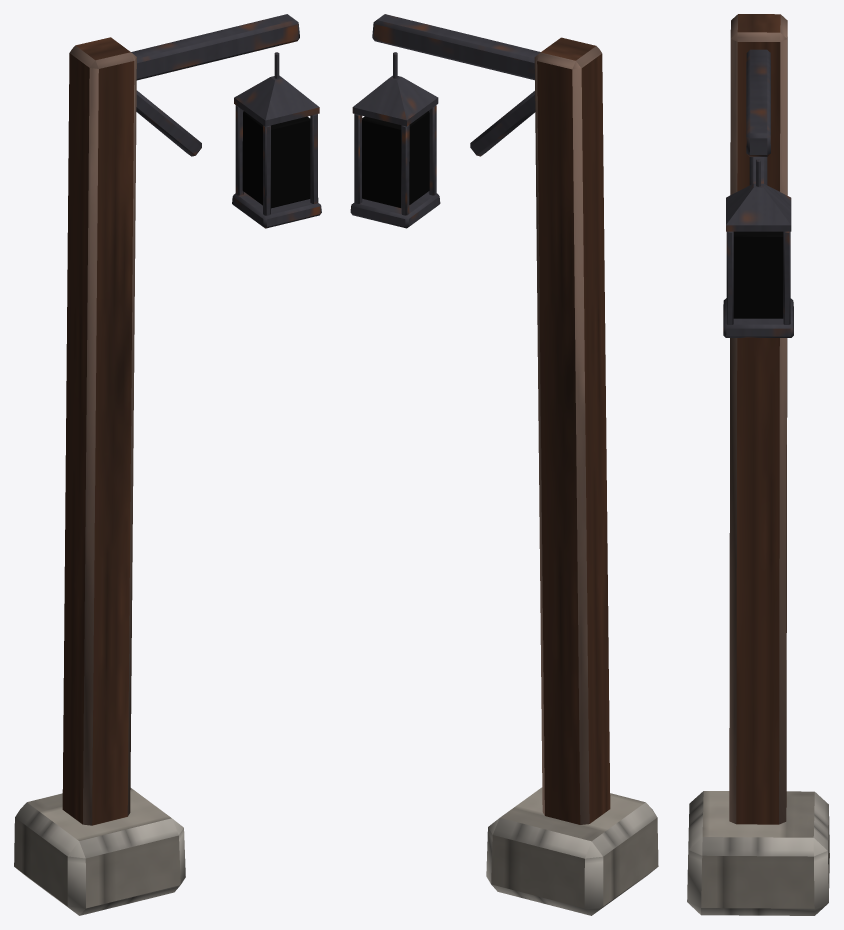
Rendered from SM_Lamp_Post.obj.
3 views of the same model, side by side, from view 1: azimuth 30°, elevation 25°; view 2: azimuth 150°, elevation 25°; view 3: azimuth 270°, elevation 25° (orthographic). The views are drawn at different scales.
Visible parts, largest first — view 1: SM_Lamp_Post; view 2: SM_Lamp_Post; view 3: SM_Lamp_Post.
Boxes of the visible parts, x1,y1,x2,y2 form: SM_Lamp_Post: (14,14,321,915); SM_Lamp_Post: (350,14,658,915); SM_Lamp_Post: (687,14,829,915).
Bounding box in the file's own units: 0.8995 × 2.7 × 0.4014.
2 materials, 1 textured.
